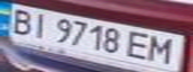1: (84, 21, 106, 52)
7: (66, 18, 90, 48)
8: (103, 25, 127, 56)
9: (48, 15, 75, 44)
B: (3, 7, 39, 36)
E: (124, 29, 154, 62)
I: (24, 10, 54, 39)
M: (145, 34, 181, 65)
